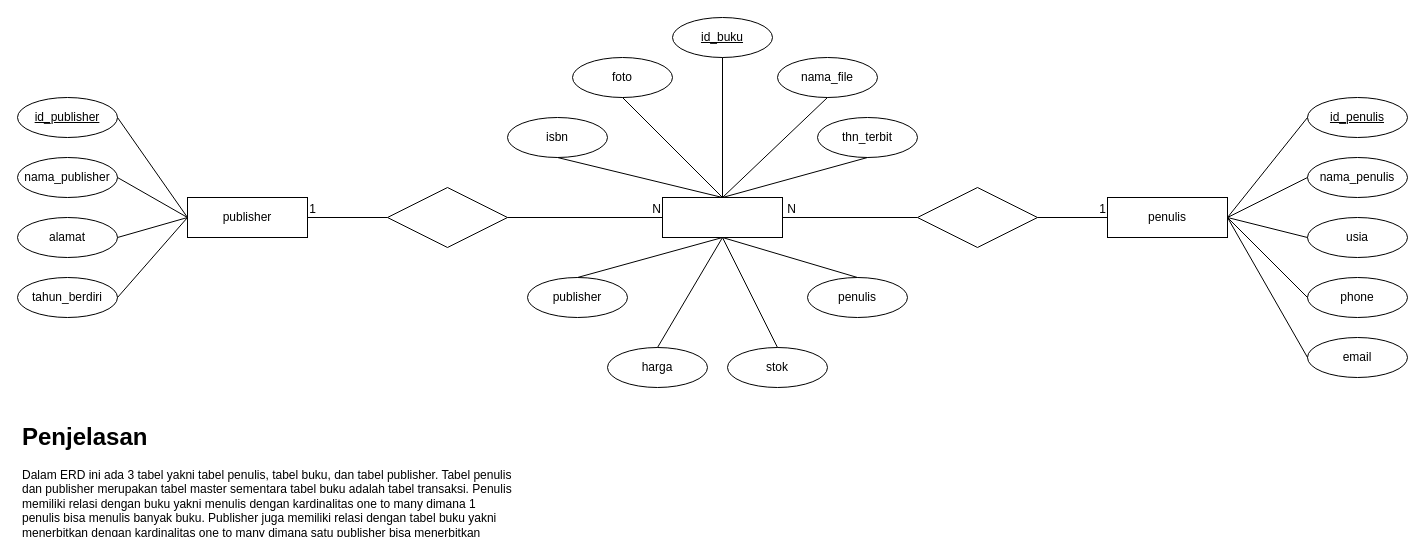
Some shapes in this 1425 by 556 pixel diagram are drawn without their labels. The shapes that lost their labels are listed below. From the top down, each one's centre as x and y in pixels, then its label:
[447,217]: menerbitkan
[722,217]: buku
[977,217]: menulis
